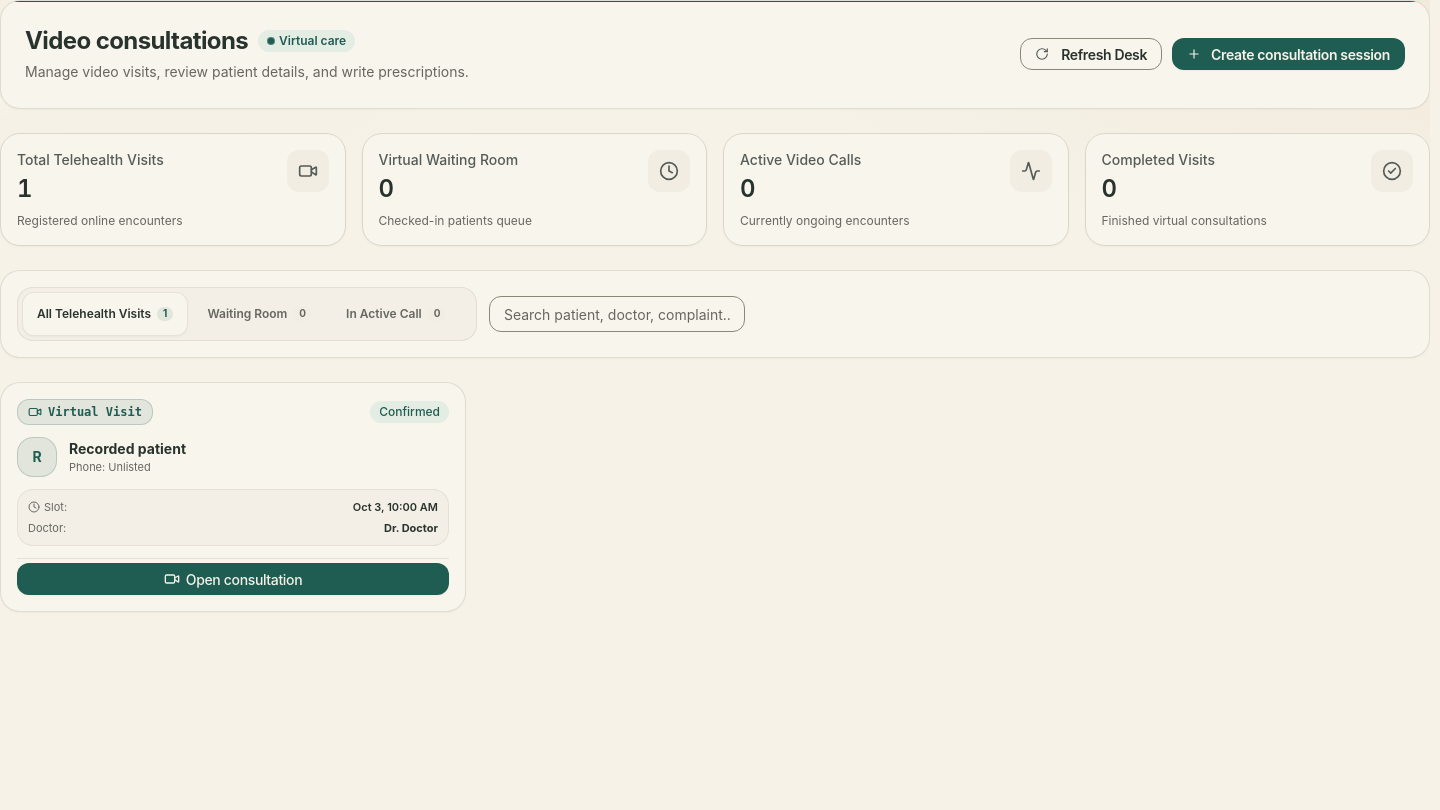
Test: shows an unavailable meeting for an invalid relative meeting placeholder
Click the button "Open consultation" at (233, 579), box [17,563,449,595]
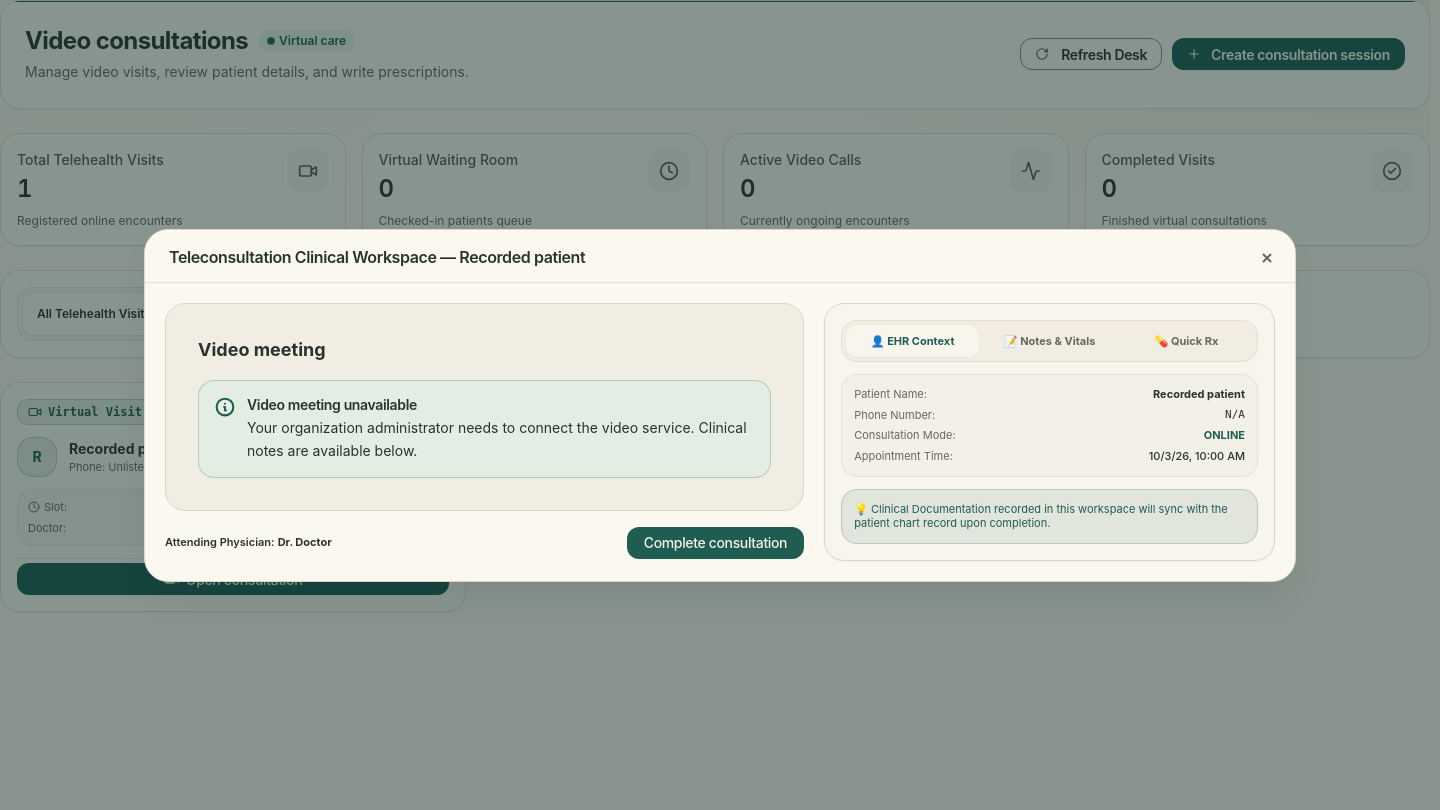
Result: the text "Video meeting unavailable" is shown at [247,396,417,412]
